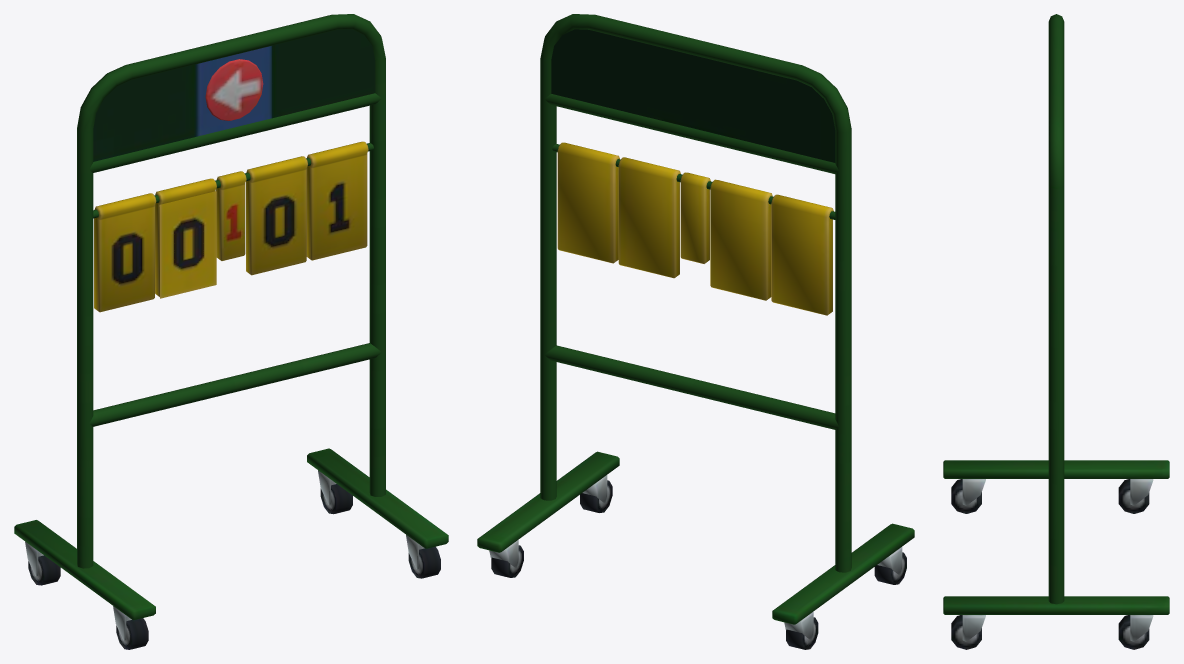
3 views of the same model, side by side, from view 1: azimuth 30°, elevation 25°; view 2: azimuth 150°, elevation 25°; view 3: azimuth 270°, elevation 25° (orthographic). The views are drawn at different scales.
Bounding box in the file's own units: 9.86 × 15.98 × 6.41.
2 materials, 2 textured.
